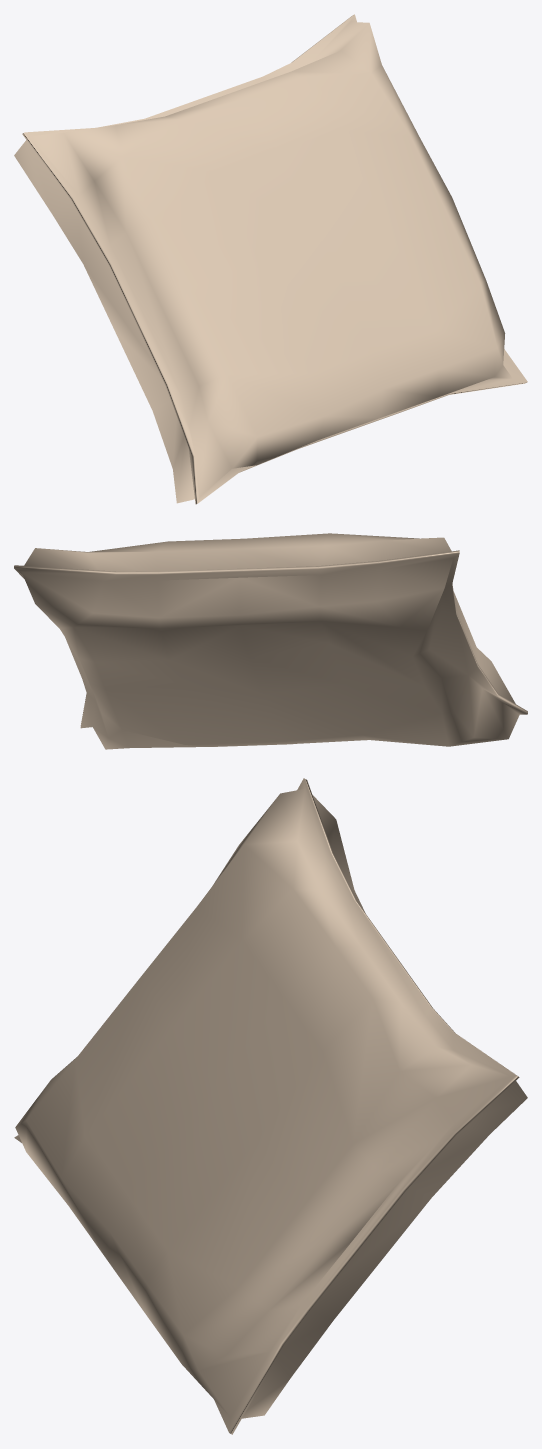
The model's file is Kussen kleiner.fbx.
3 renders of one model, top to bottom at view 1: azimuth 30°, elevation 25°; view 2: azimuth 150°, elevation 25°; view 3: azimuth 270°, elevation 25°, orthographic. The views are drawn at different scales.
Parts seen in each view (by area): view 1: Group1; view 2: Group1; view 3: Group1.
Boxes of the visible parts, x1,y1,x2,y2 form: Group1: (14, 14, 527, 504); Group1: (14, 533, 527, 749); Group1: (14, 778, 527, 1434).
Bounding box in the file's own units: 463 × 326 × 380.
